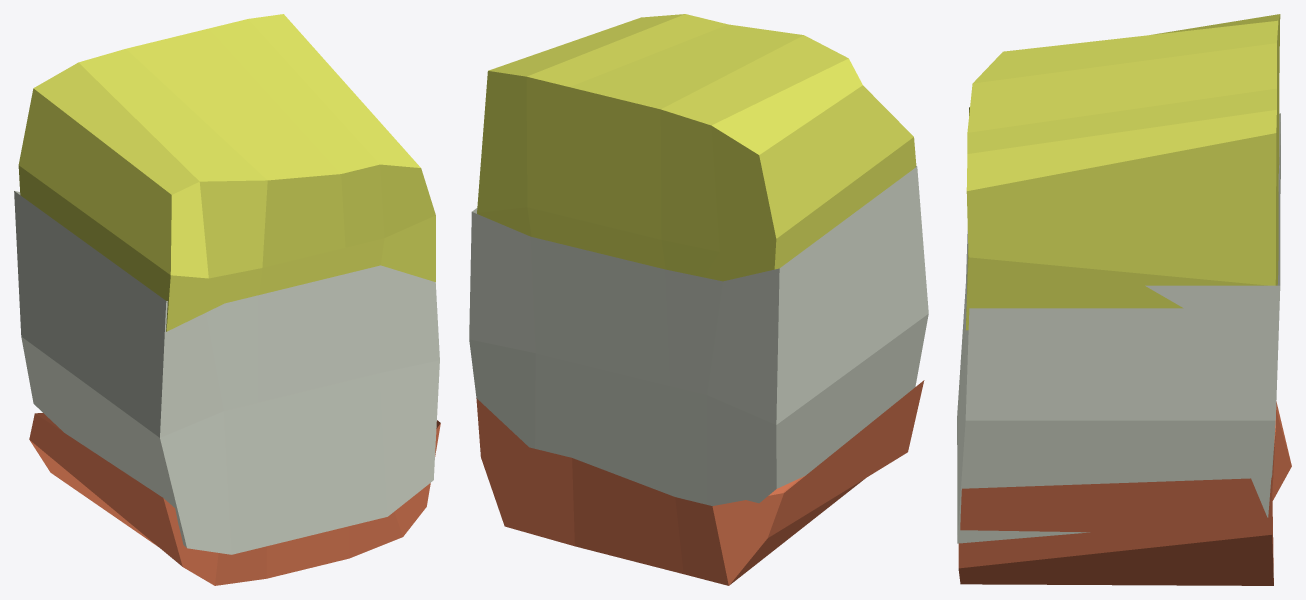
The model's file is Flours.fbx.
3 views of the same model, side by side, from view 1: azimuth 30°, elevation 25°; view 2: azimuth 150°, elevation 25°; view 3: azimuth 270°, elevation 25° (orthographic). The views are drawn at different scales.
Visible parts, largest first — view 1: Cube.003; view 2: Cube.003; view 3: Cube.003.
Part boxes in pixels (x1,y1,x2,y2): Cube.003: [14, 14, 440, 585]; Cube.003: [469, 14, 928, 585]; Cube.003: [957, 14, 1291, 585].
Size of the model in its own units: 0.4845 by 0.692 by 0.4413.
